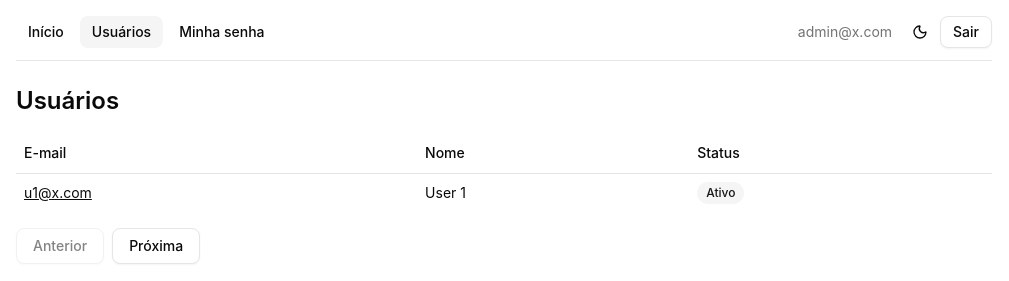
Test case: UsersList on /users › paginates by 50
Expected: the button "Anterior" is disabled, [16,228,104,264]
Click the button "Próxima" at (156, 246), box [112,228,200,264]
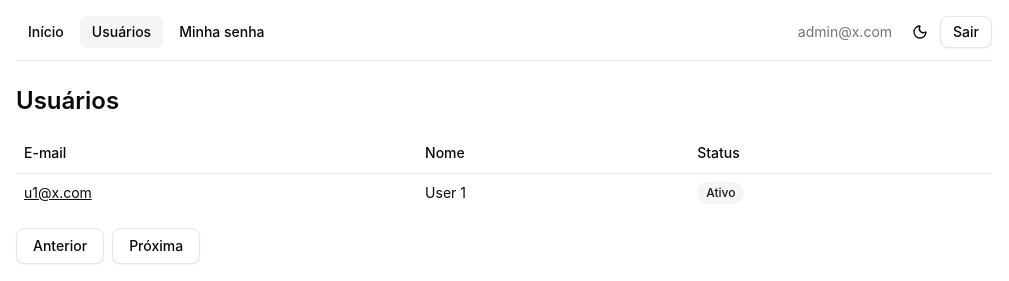
Click the button "Próxima" at (156, 246), box [112,228,200,264]
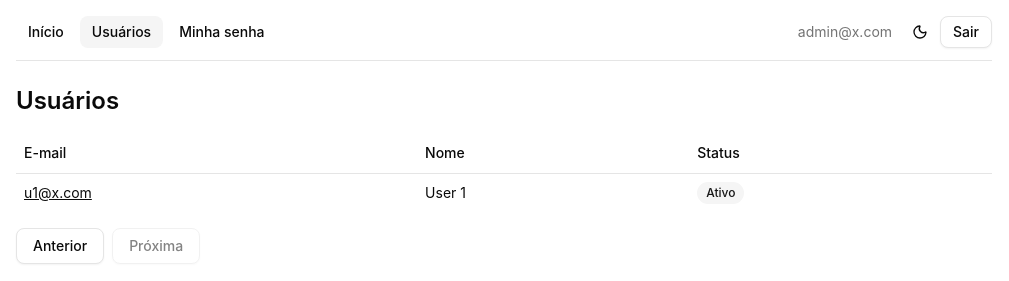
Now the button "Anterior" is enabled, box [16,228,104,264]
Now the button "Próxima" is disabled, box [112,228,200,264]
